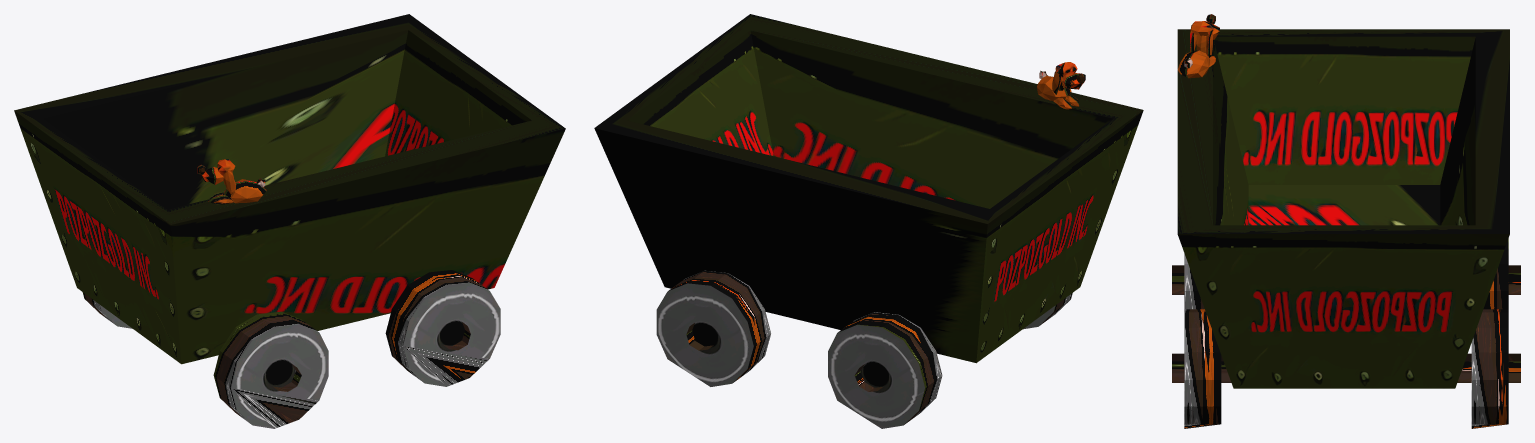
Rendered from Miner.glb.
3 renders of one model, left to right at view 1: azimuth 30°, elevation 25°; view 2: azimuth 150°, elevation 25°; view 3: azimuth 270°, elevation 25°, orthographic. The views are drawn at different scales.
Visible parts, largest first — view 1: Miner; view 2: Miner; view 3: Miner.
Boxes of the visible parts, x1,y1,x2,y2 form: Miner: (14,14,565,428); Miner: (594,14,1143,428); Miner: (1172,14,1520,428).
Size of the model in its own units: 263 by 173 by 189.
Materials: 1 (1 with a texture image).
